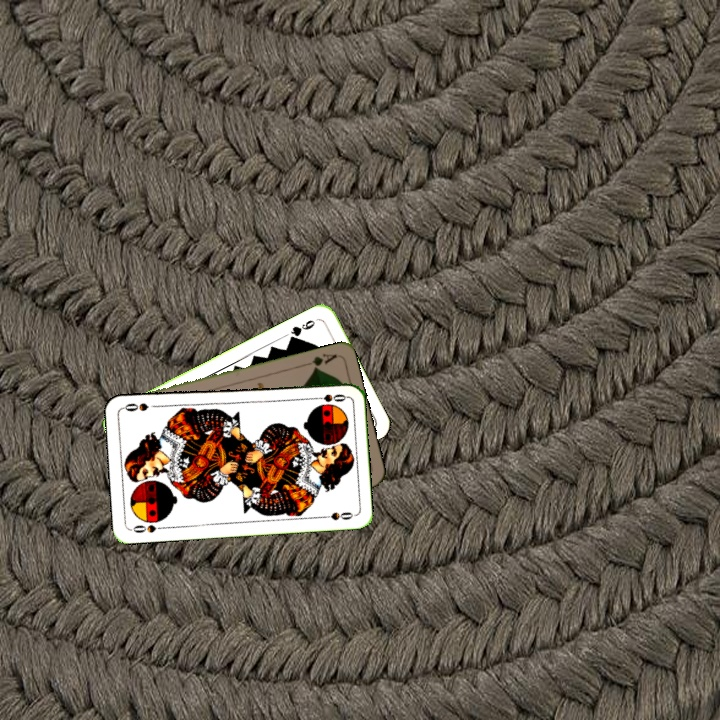G9: (285, 316, 318, 343)
GA: (299, 349, 339, 373)
SO: (308, 390, 349, 405), (128, 521, 168, 536)
